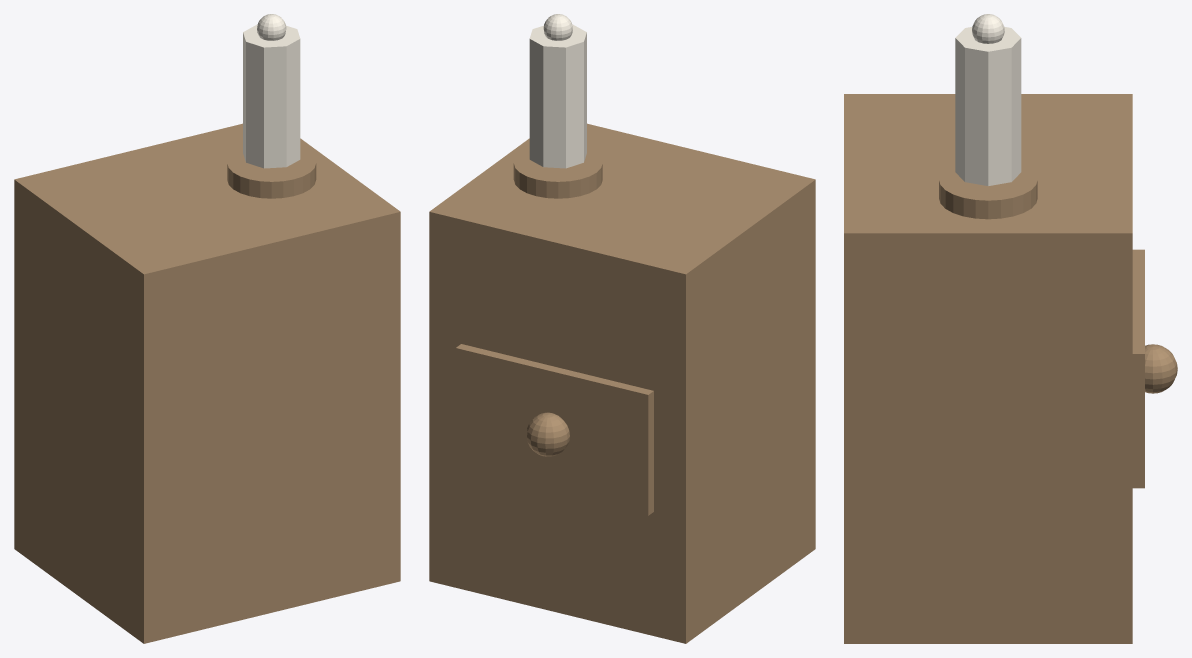
Rendered from NightStand.fbx.
The picture shows the model from 3 angles, left to right: view 1: azimuth 30°, elevation 25°; view 2: azimuth 150°, elevation 25°; view 3: azimuth 270°, elevation 25°; orthographic projection. The views are drawn at different scales.
Visible parts, largest first — view 1: NightStand; view 2: NightStand; view 3: NightStand.
Part boxes in pixels (x1=…): NightStand: x1=14, y1=14, x2=400, y2=643; NightStand: x1=429, y1=14, x2=815, y2=643; NightStand: x1=844, y1=14, x2=1177, y2=643.
Bounding box in the file's own units: 40 × 79.5 × 40.5.
